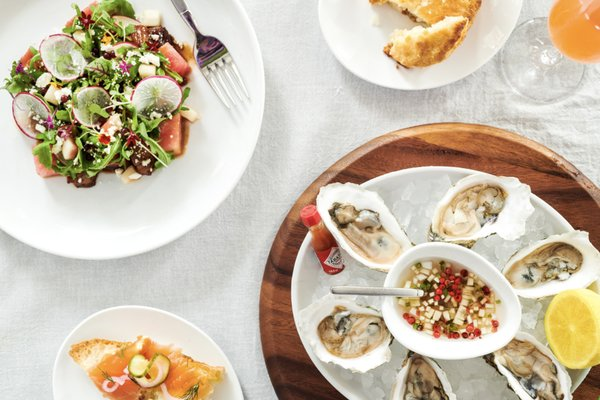salad: (330, 284, 424, 301)
sushi: (53, 305, 244, 398), (381, 243, 522, 359), (316, 182, 415, 270)
taco: (542, 288, 600, 370)
